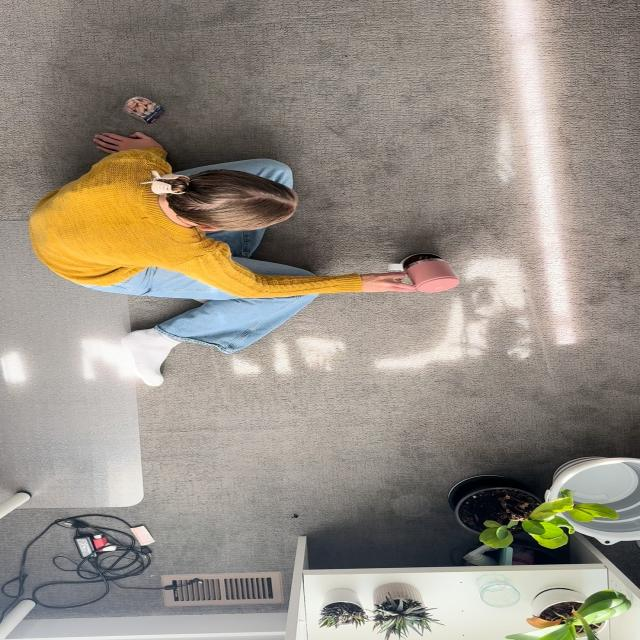IBC: (404, 259, 460, 293)
